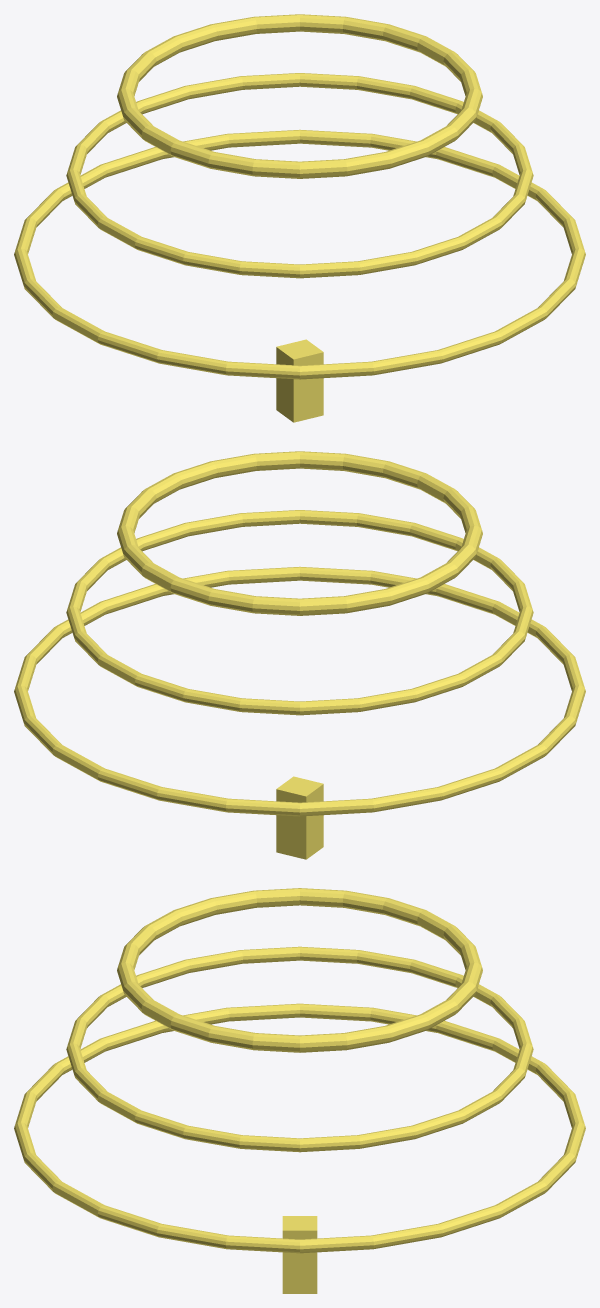
File: female_layered_necklace.glb
3 renders of one model, top to bottom at view 1: azimuth 30°, elevation 25°; view 2: azimuth 150°, elevation 25°; view 3: azimuth 270°, elevation 25°, orthographic.
Visible parts, largest first — view 1: LayeredNecklace; view 2: LayeredNecklace; view 3: LayeredNecklace.
Boxes of the visible parts, box(x1,y1,x2,y2) form: LayeredNecklace: box(14, 14, 585, 422); LayeredNecklace: box(14, 451, 585, 859); LayeredNecklace: box(14, 888, 585, 1293).
Bounding box in the file's own units: 0.328 × 0.205 × 0.328.
